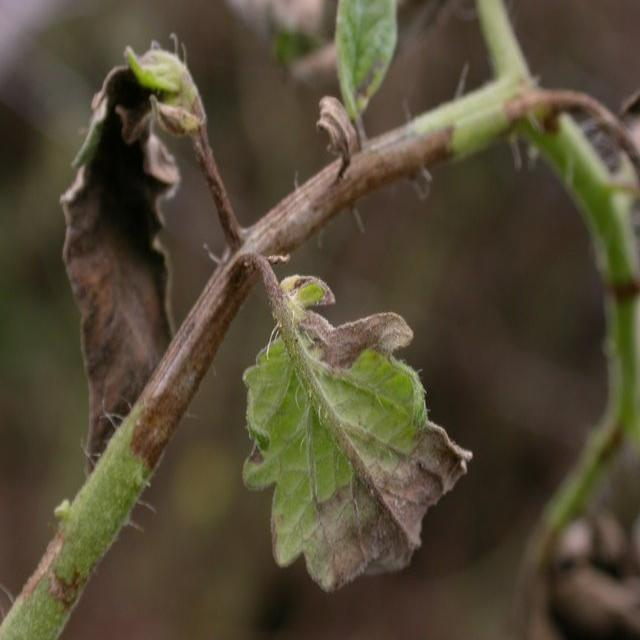Late_blight: (57, 50, 183, 487), (303, 416, 476, 589), (276, 271, 416, 368), (313, 97, 358, 170)
